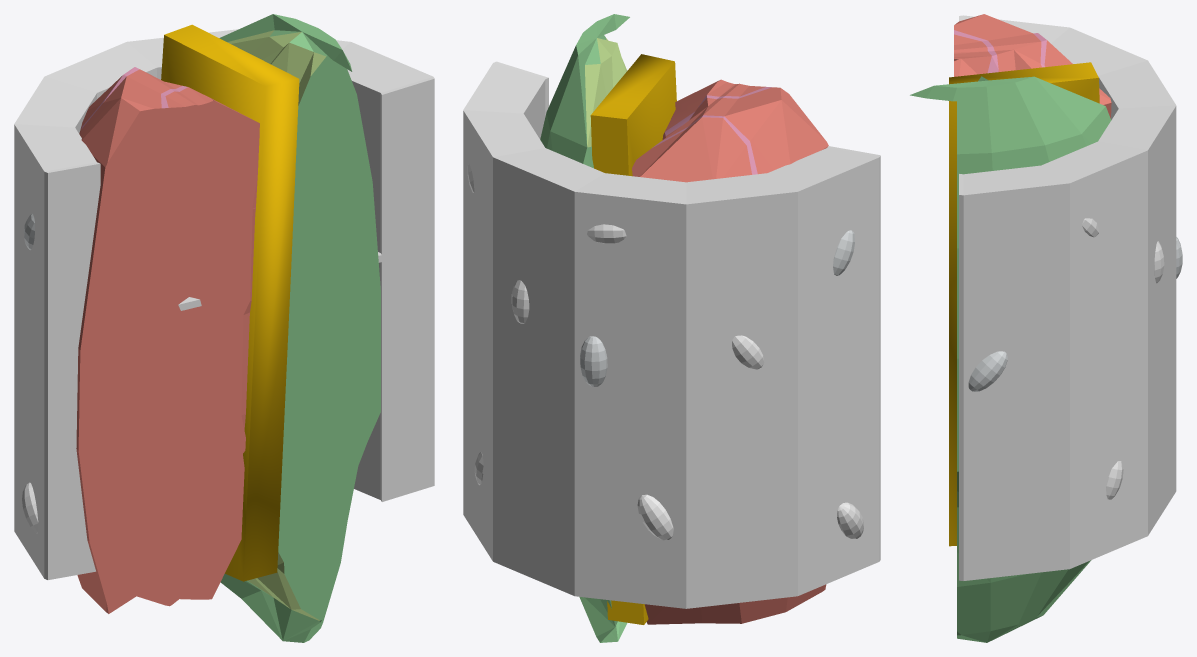
The model's file is sushi-half.fbx.
3 renders of one model, left to right at view 1: azimuth 30°, elevation 25°; view 2: azimuth 150°, elevation 25°; view 3: azimuth 270°, elevation 25°, orthographic. The views are drawn at different scales.
Visible parts, largest first — view 1: group_940964618; view 2: group_940964618; view 3: group_940964618.
Part boxes in pixels (x1,y1,x2,y2): group_940964618: (14,14,434,642); group_940964618: (463,14,880,642); group_940964618: (910,14,1182,642).
Size of the model in its own units: 118 by 174 by 75.16.
